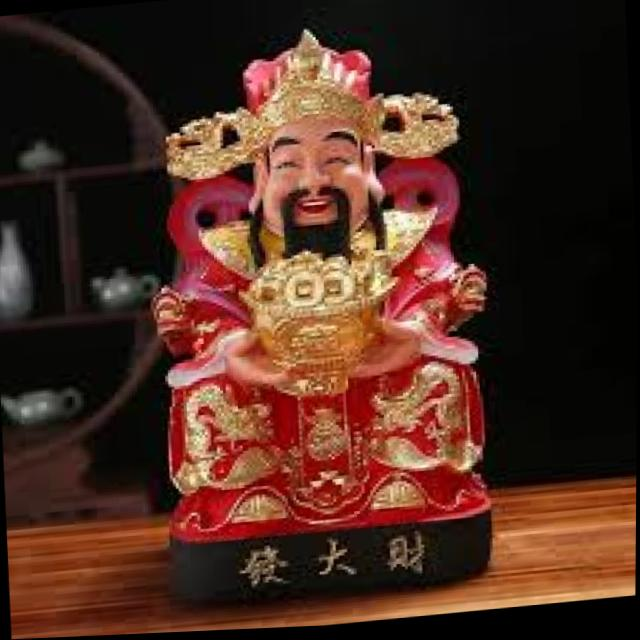Cai shen: (139, 13, 500, 548)
